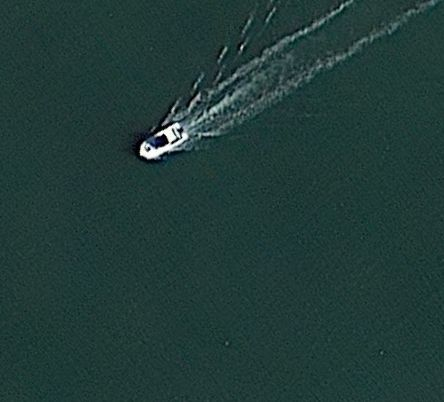boat: (134, 122, 188, 164)
